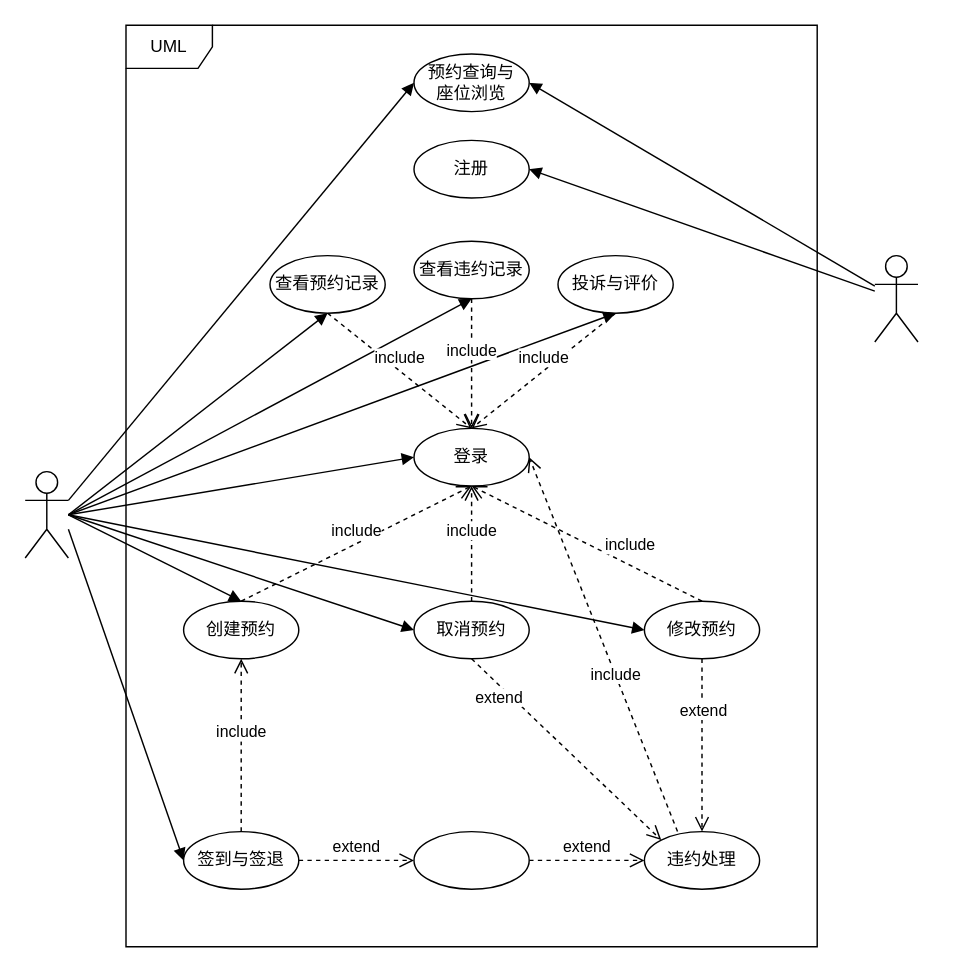
Image size: 956x972. Some labels were removed from this diagram. The shapes that lost their labels are listed below. From the top down, each one's centre as x and y in pixels, then its label:
At (895,298): "匿名访客".
At (46,514): "学生".
At (471,859): "超时自动释放".
